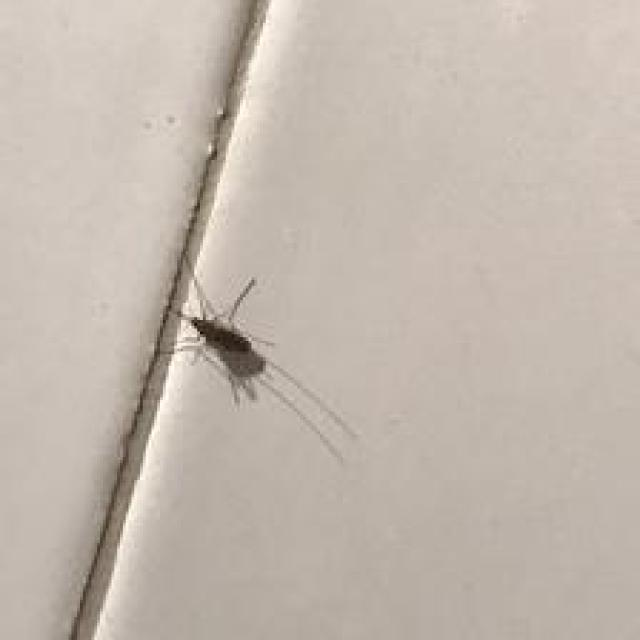Culex: (156, 271, 361, 466)
